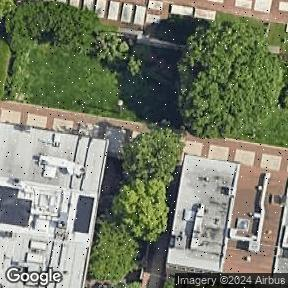vegetation: (81, 119, 199, 288), (178, 17, 284, 141), (127, 56, 144, 80), (0, 0, 14, 17)
